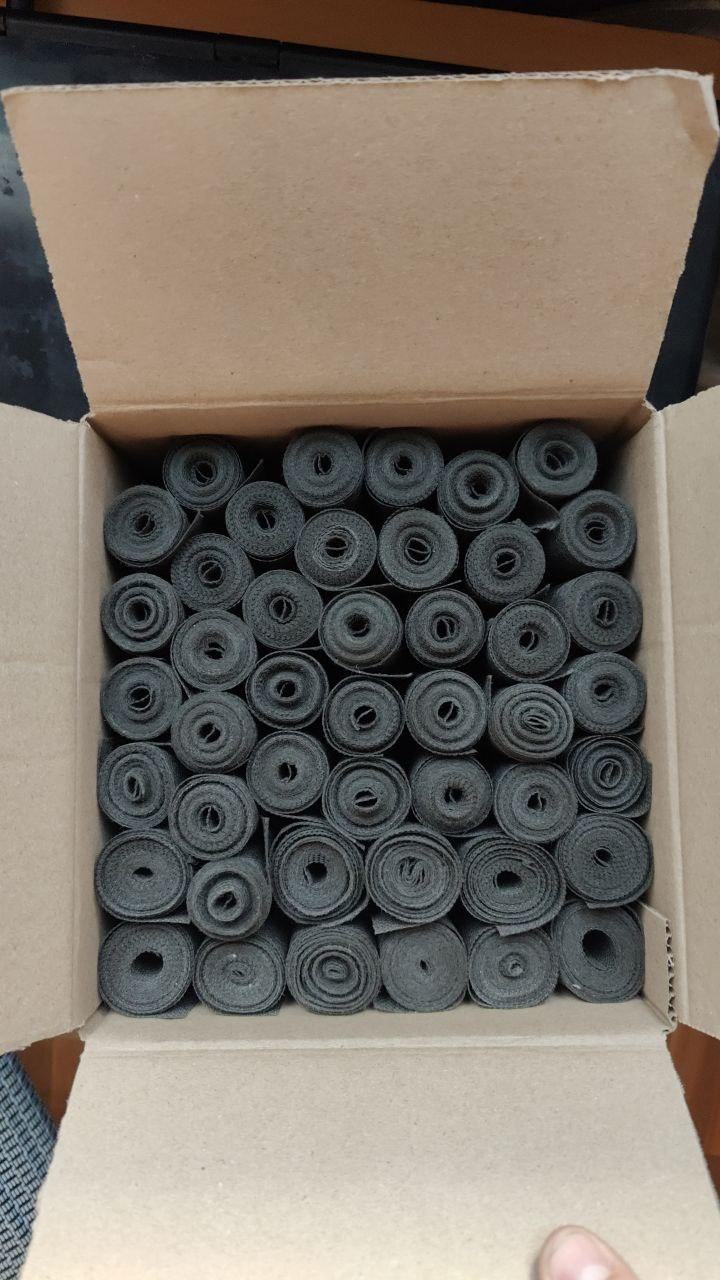roll: (456, 832, 567, 932), (96, 915, 199, 1018), (268, 820, 368, 926), (554, 809, 657, 910), (550, 896, 646, 1004), (362, 826, 463, 926), (283, 918, 384, 1018), (373, 916, 473, 1015), (93, 827, 194, 924), (463, 917, 561, 1013), (192, 923, 290, 1017), (402, 663, 493, 760), (549, 568, 647, 658), (167, 769, 261, 862), (183, 849, 275, 943), (558, 648, 653, 739), (484, 596, 576, 687), (490, 757, 583, 847), (95, 738, 184, 832), (550, 487, 641, 578), (169, 687, 261, 777), (244, 727, 334, 818), (563, 732, 655, 821), (486, 677, 579, 765), (320, 753, 413, 841), (461, 520, 551, 610), (513, 419, 604, 508), (406, 751, 497, 839), (168, 607, 258, 695), (98, 654, 185, 745), (292, 506, 381, 594), (102, 483, 189, 573), (376, 506, 463, 595), (402, 587, 489, 675), (168, 530, 256, 617), (279, 425, 367, 512), (318, 588, 405, 675), (320, 673, 408, 759), (240, 568, 326, 656), (99, 570, 185, 657), (222, 478, 308, 564), (243, 646, 330, 731), (437, 447, 524, 532), (361, 427, 446, 512), (161, 436, 247, 517)
